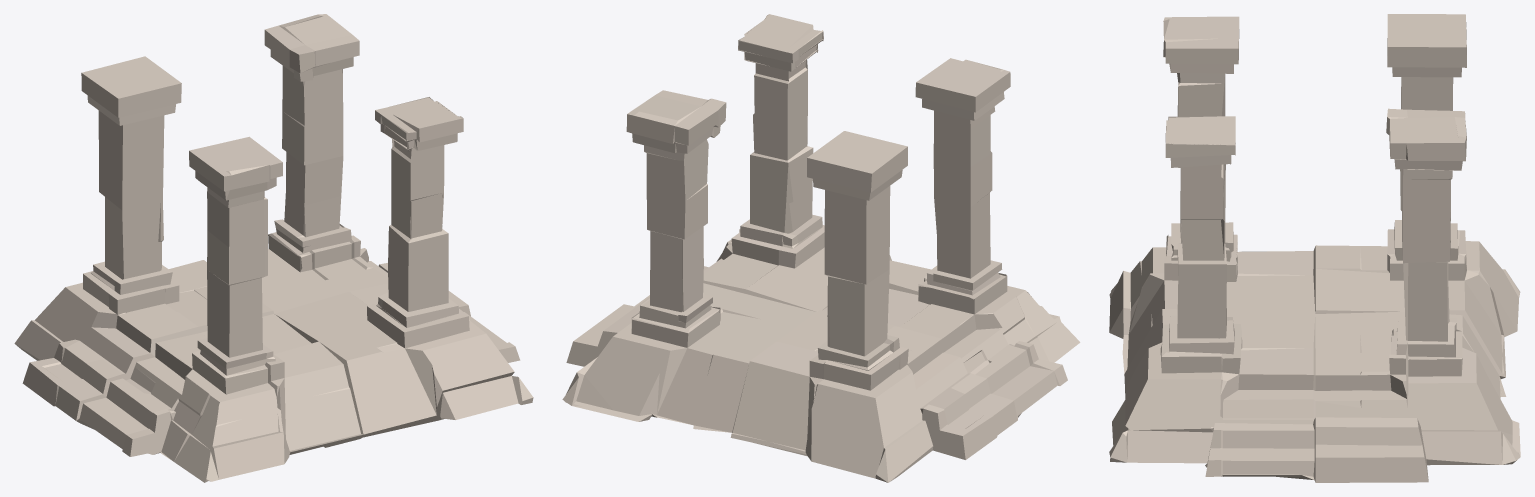
File: temple.gltf
The picture shows the model from 3 angles, left to right: view 1: azimuth 30°, elevation 25°; view 2: azimuth 150°, elevation 25°; view 3: azimuth 270°, elevation 25°; orthographic projection. The views are drawn at different scales.
Parts seen in each view (by area): view 1: Cube; view 2: Cube; view 3: Cube.
Boxes of the visible parts, box(x1,y1,x2,y2) form: Cube: box(14, 14, 533, 482); Cube: box(562, 14, 1080, 482); Cube: box(1109, 14, 1520, 482).
Size of the model in its own units: 5.9 by 4.01 by 4.92.
